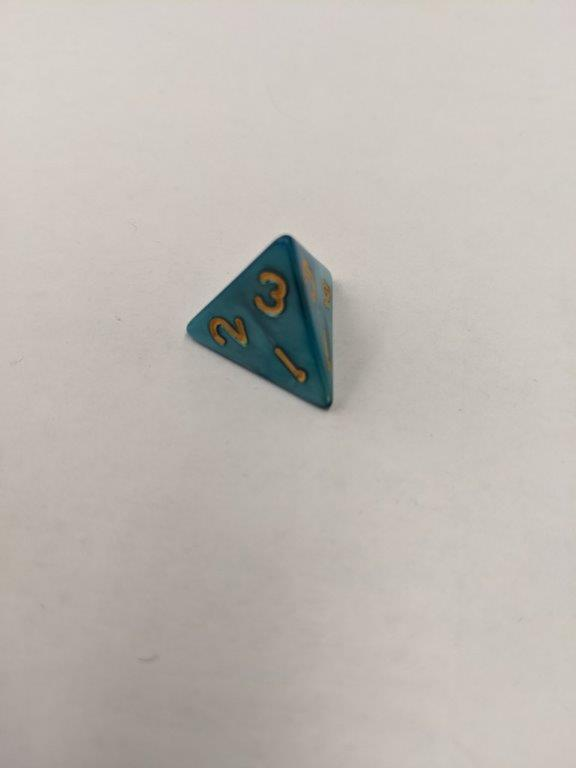d4-3: (186, 231, 340, 419)
